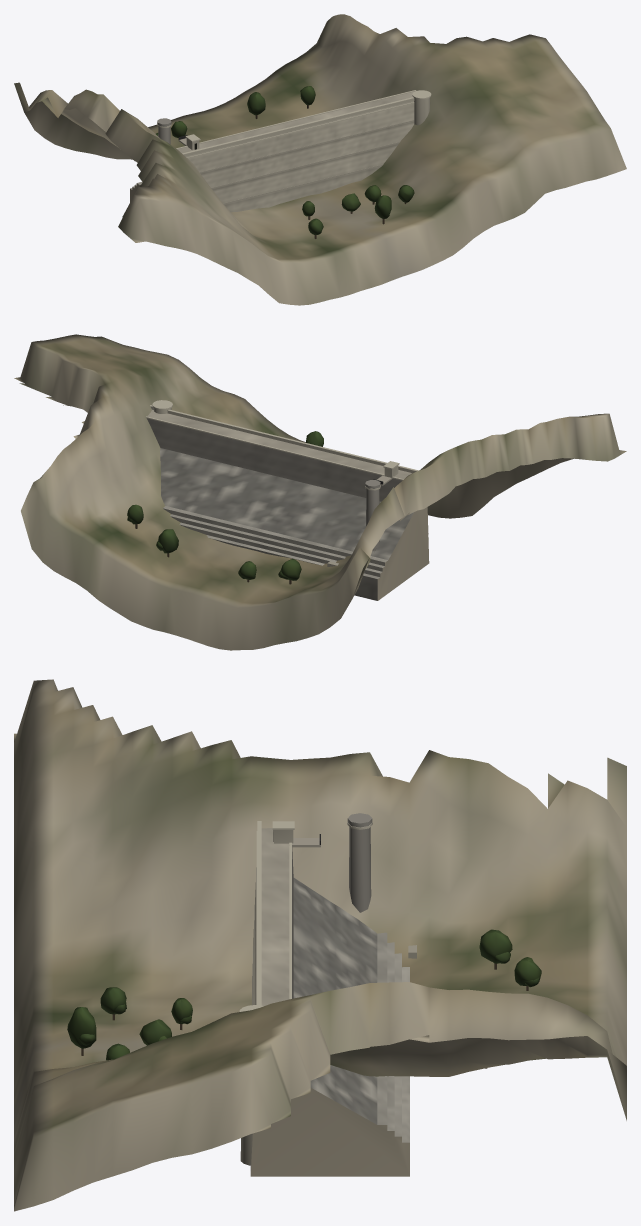
3 renders of one model, top to bottom at view 1: azimuth 30°, elevation 25°; view 2: azimuth 150°, elevation 25°; view 3: azimuth 270°, elevation 25°, orthographic. The views are drawn at different scales.
Visible parts, largest first — view 1: roca, presa_del_ponton_de_la_oliva, arboles; view 2: roca, presa_del_ponton_de_la_oliva, arboles; view 3: roca, presa_del_ponton_de_la_oliva, arboles.
Part boxes in pixels (<box>): roca: <box>14,14,626,305</box>; presa_del_ponton_de_la_oliva: <box>130,90,431,212</box>; arboles: <box>156,86,414,238</box>; roca: <box>14,334,626,650</box>; presa_del_ponton_de_la_oliva: <box>146,400,429,600</box>; arboles: <box>127,431,323,584</box>; roca: <box>14,679,626,1211</box>; presa_del_ponton_de_la_oliva: <box>239,813,416,1176</box>; arboles: <box>67,929,541,1068</box>.
Bounding box in the file's own units: 192 × 53.99 × 124.
